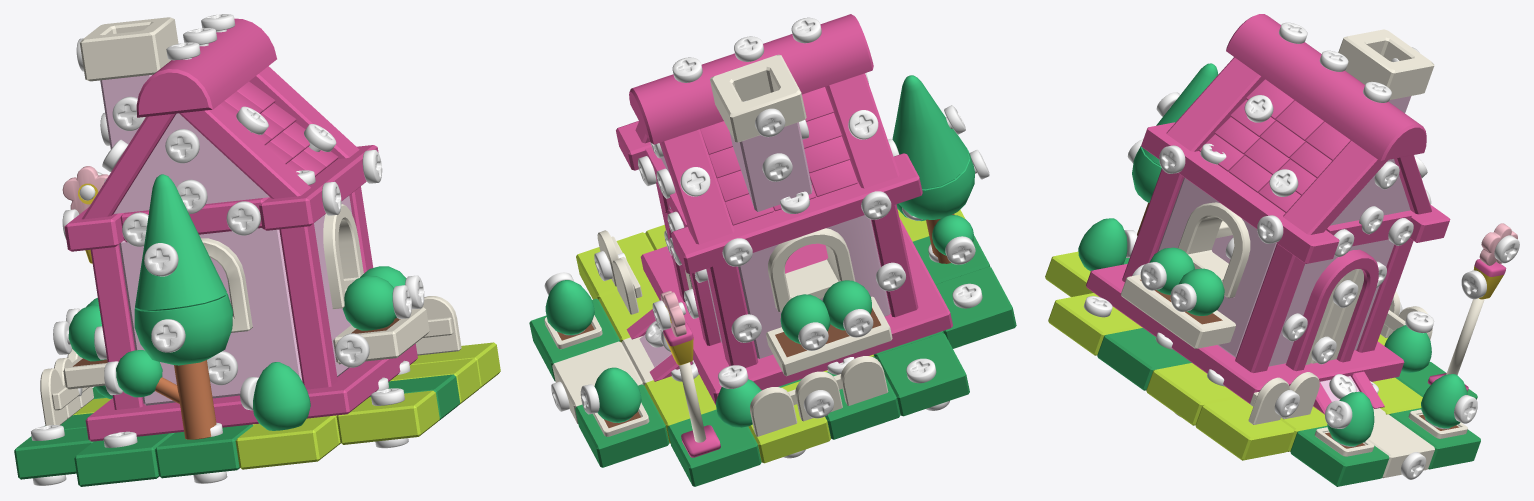
The model's file is House_GroupD.fbx.
3 views of the same model, side by side, from view 1: azimuth 30°, elevation 25°; view 2: azimuth 150°, elevation 25°; view 3: azimuth 270°, elevation 25° (orthographic). The views are drawn at different scales.
Visible parts, largest first — view 1: Board_035, Screw (×16), Board_023, Board_045, Board_030, Board_017, Board_040, Board_008, Board_018, Board_009, Board_005, Board_038 (+12 smaller); view 2: Board_005, Board_025, Board_041, Screw (×18), Board_008, Board_042, Board_040, Board_026, Board_045, Board_018, Board_022, Board_013 (+16 smaller); view 3: Board_035, Board_030, Board_008, Screw (×18), Board_041, Board_042, Board_038, Board_040, Board_002, Board_022, Board_054, Board_005 (+17 smaller).
Boxes of the visible parts, x1=… form: Board_035: x1=259, y1=145, x2=378, y2=389; Screw (×16): x1=53, y1=42, x2=411, y2=385; Board_023: x1=119, y1=228, x2=302, y2=405; Board_045: x1=74, y1=416, x2=338, y2=486; Board_030: x1=179, y1=66, x2=359, y2=198; Board_017: x1=116, y1=293, x2=232, y2=439; Board_040: x1=14, y1=374, x2=459, y2=479; Board_008: x1=136, y1=18, x2=276, y2=117; Board_018: x1=135, y1=174, x2=226, y2=310; Board_009: x1=114, y1=113, x2=269, y2=242; Board_005: x1=64, y1=207, x2=144, y2=409; Board_038: x1=333, y1=266, x2=429, y2=364; Board_005: x1=671, y1=153, x2=922, y2=367; Board_025: x1=659, y1=73, x2=899, y2=244; Board_041: x1=576, y1=225, x2=830, y2=486; Screw (×18): x1=672, y1=17, x2=982, y2=418; Board_008: x1=629, y1=14, x2=873, y2=144; Board_042: x1=529, y1=298, x2=669, y2=467; Board_040: x1=823, y1=331, x2=969, y2=439; Board_026: x1=766, y1=280, x2=892, y2=376; Board_045: x1=897, y1=209, x2=1016, y2=348; Board_018: x1=892, y1=75, x2=969, y2=189; Board_022: x1=710, y1=54, x2=806, y2=142; Board_013: x1=750, y1=356, x2=888, y2=436; Board_035: x1=1122, y1=122, x2=1339, y2=372; Board_030: x1=1166, y1=57, x2=1387, y2=234; Board_008: x1=1226, y1=14, x2=1426, y2=161; Screw (×18): x1=1140, y1=95, x2=1519, y2=479; Board_041: x1=1146, y1=334, x2=1477, y2=460; Board_042: x1=1290, y1=408, x2=1480, y2=486; Board_038: x1=1121, y1=247, x2=1235, y2=348; Board_040: x1=1048, y1=293, x2=1191, y2=390; Board_002: x1=1285, y1=249, x2=1378, y2=371; Board_022: x1=1338, y1=29, x2=1434, y2=99; Board_054: x1=1170, y1=333, x2=1331, y2=403; Board_005: x1=1356, y1=204, x2=1450, y2=352.
Size of the model in its own units: 10.97 by 10.4 by 11.64.
Materials: 2 (1 with a texture image).
